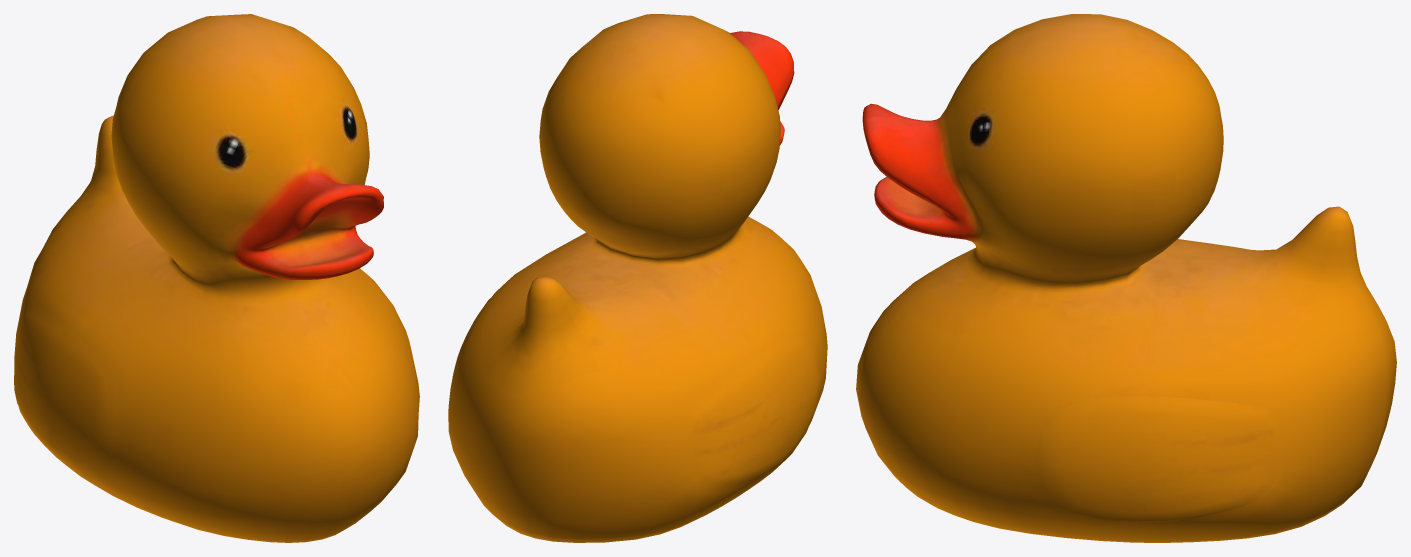
The model's file is toy.glb.
The picture shows the model from 3 angles, left to right: view 1: azimuth 30°, elevation 25°; view 2: azimuth 150°, elevation 25°; view 3: azimuth 270°, elevation 25°; orthographic projection. The views are drawn at different scales.
Visible parts, largest first — view 1: rubber_duck_toy; view 2: rubber_duck_toy; view 3: rubber_duck_toy.
Part boxes in pixels (x1,y1,x2,y2): rubber_duck_toy: (14,14,419,542); rubber_duck_toy: (448,14,827,542); rubber_duck_toy: (856,14,1396,542).
Size of the model in its own units: 0.2135 by 0.2855 by 0.3.
Materials: 1 (1 with a texture image).
